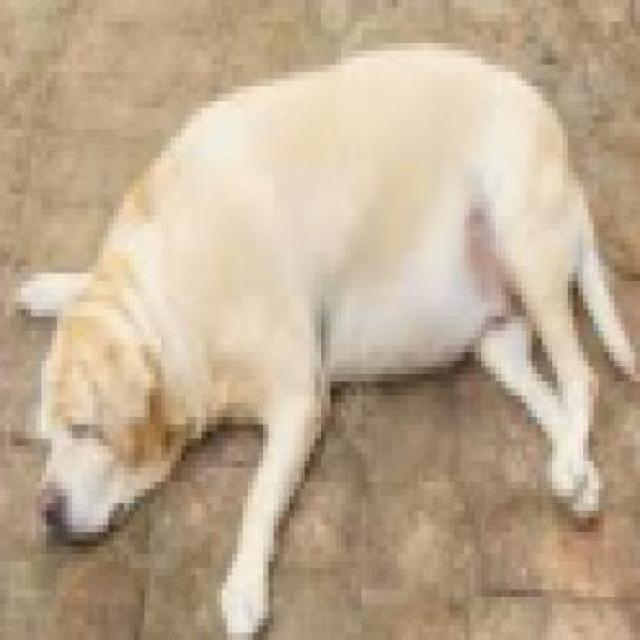Dog: (11, 37, 635, 634)
